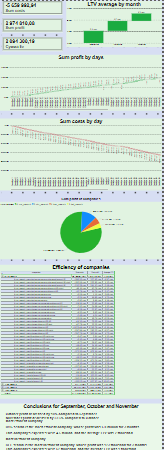

The dashboard page shown, as its layout file describes it:
{"tool":"powerbi","page":{"name":"Страница 1","canvas":[1300,3600],"ordinal":0},"visuals":[{"type":"pivotTable","title":"Efficiency of companies","fields":{"Rows":["ltv_30_days.compaign_short","ltv_30_days.campaign"],"Values":["ltv_30_days.costs_rub","ltv_30_days.sum_income","ltv_30_days.ltv"]},"box":[0,2112,1296,1072],"z":0},{"type":"waterfallChart","title":"LTV average by month","fields":{"Y":["ltv_30_days.ltv"],"Category":["ltv_30_days.date.Изменение.Иерархия дат.Месяц"]},"box":[528,0,768,368],"z":1000},{"type":"waterfallChart","title":"Sum costs by day","fields":{"Y":["ltv_30_days.costs_rub"],"Category":["ltv_30_days.date.Изменение.Иерархия дат.Месяц","ltv_30_days.date.Изменение.Иерархия дат.День"]},"box":[0,944,1296,576],"z":2000},{"type":"waterfallChart","title":"Sum profit by days","fields":{"Y":["ltv_30_days.profit"],"Category":["ltv_30_days.date.Изменение.Иерархия дат.Месяц","ltv_30_days.date.Изменение.Иерархия дат.День"]},"box":[0,432,1296,448],"z":3000},{"type":"multiRowCard","fields":{"Values":["ltv_30_days.costs_rub"]},"box":[16,0,480,112],"z":4000},{"type":"multiRowCard","fields":{"Values":["ltv_30_days.profit"]},"box":[16,144,480,112],"z":5000},{"type":"multiRowCard","fields":{"Values":["ltv_30_days.ltv"]},"box":[16,288,480,112],"z":6000},{"type":"pieChart","title":"Sum profit of companies","fields":{"Category":["ltv_30_days.compaign_short"],"Y":["ltv_30_days.profit"]},"box":[0,1568,1296,496],"z":7000},{"type":"textbox","box":[0,3216,1296,384],"z":8000}]}

Visuals, with their boxes in screenshot pixels (x1, y1, x2, y2), scaled from the page's 1300x3600 canvas onto the 164x450 screenshot:
"Efficiency of companies" pivotTable: select_region(0, 264, 163, 398)
"LTV average by month" waterfallChart: select_region(67, 0, 163, 46)
"Sum costs by day" waterfallChart: select_region(0, 118, 163, 190)
"Sum profit by days" waterfallChart: select_region(0, 54, 163, 110)
multiRowCard - ltv_30_days.costs_rub: select_region(2, 0, 63, 14)
multiRowCard - ltv_30_days.profit: select_region(2, 18, 63, 32)
multiRowCard - ltv_30_days.ltv: select_region(2, 36, 63, 50)
"Sum profit of companies" pieChart: select_region(0, 196, 163, 258)
textbox: select_region(0, 402, 163, 449)
